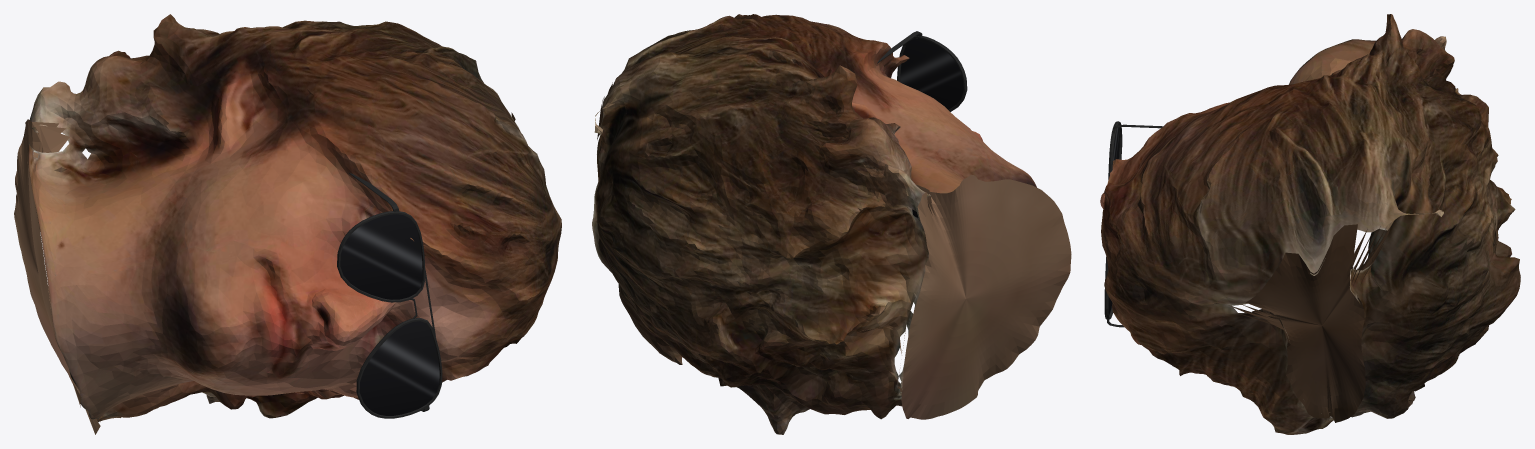
File: head-riso.glb
The picture shows the model from 3 angles, left to right: view 1: azimuth 30°, elevation 25°; view 2: azimuth 150°, elevation 25°; view 3: azimuth 270°, elevation 25°; orthographic projection. The views are drawn at different scales.
Visible parts, largest first — view 1: head, glasses_2, glasses_6, glasses_5, glasses_1; view 2: head, glasses_2, glasses_1; view 3: head.
Part boxes in pixels (x1,y1,x2,y2): head: [14, 14, 561, 434]; glasses_2: [340, 214, 422, 299]; glasses_6: [359, 321, 439, 415]; glasses_5: [356, 317, 442, 418]; glasses_1: [337, 211, 425, 302]; head: [592, 14, 1071, 434]; glasses_2: [900, 38, 963, 109]; glasses_1: [897, 36, 967, 111]; head: [1100, 14, 1520, 434].
Bounding box in the file's own units: 1.01 × 0.8105 × 0.8508.
3 materials, 2 textured.
